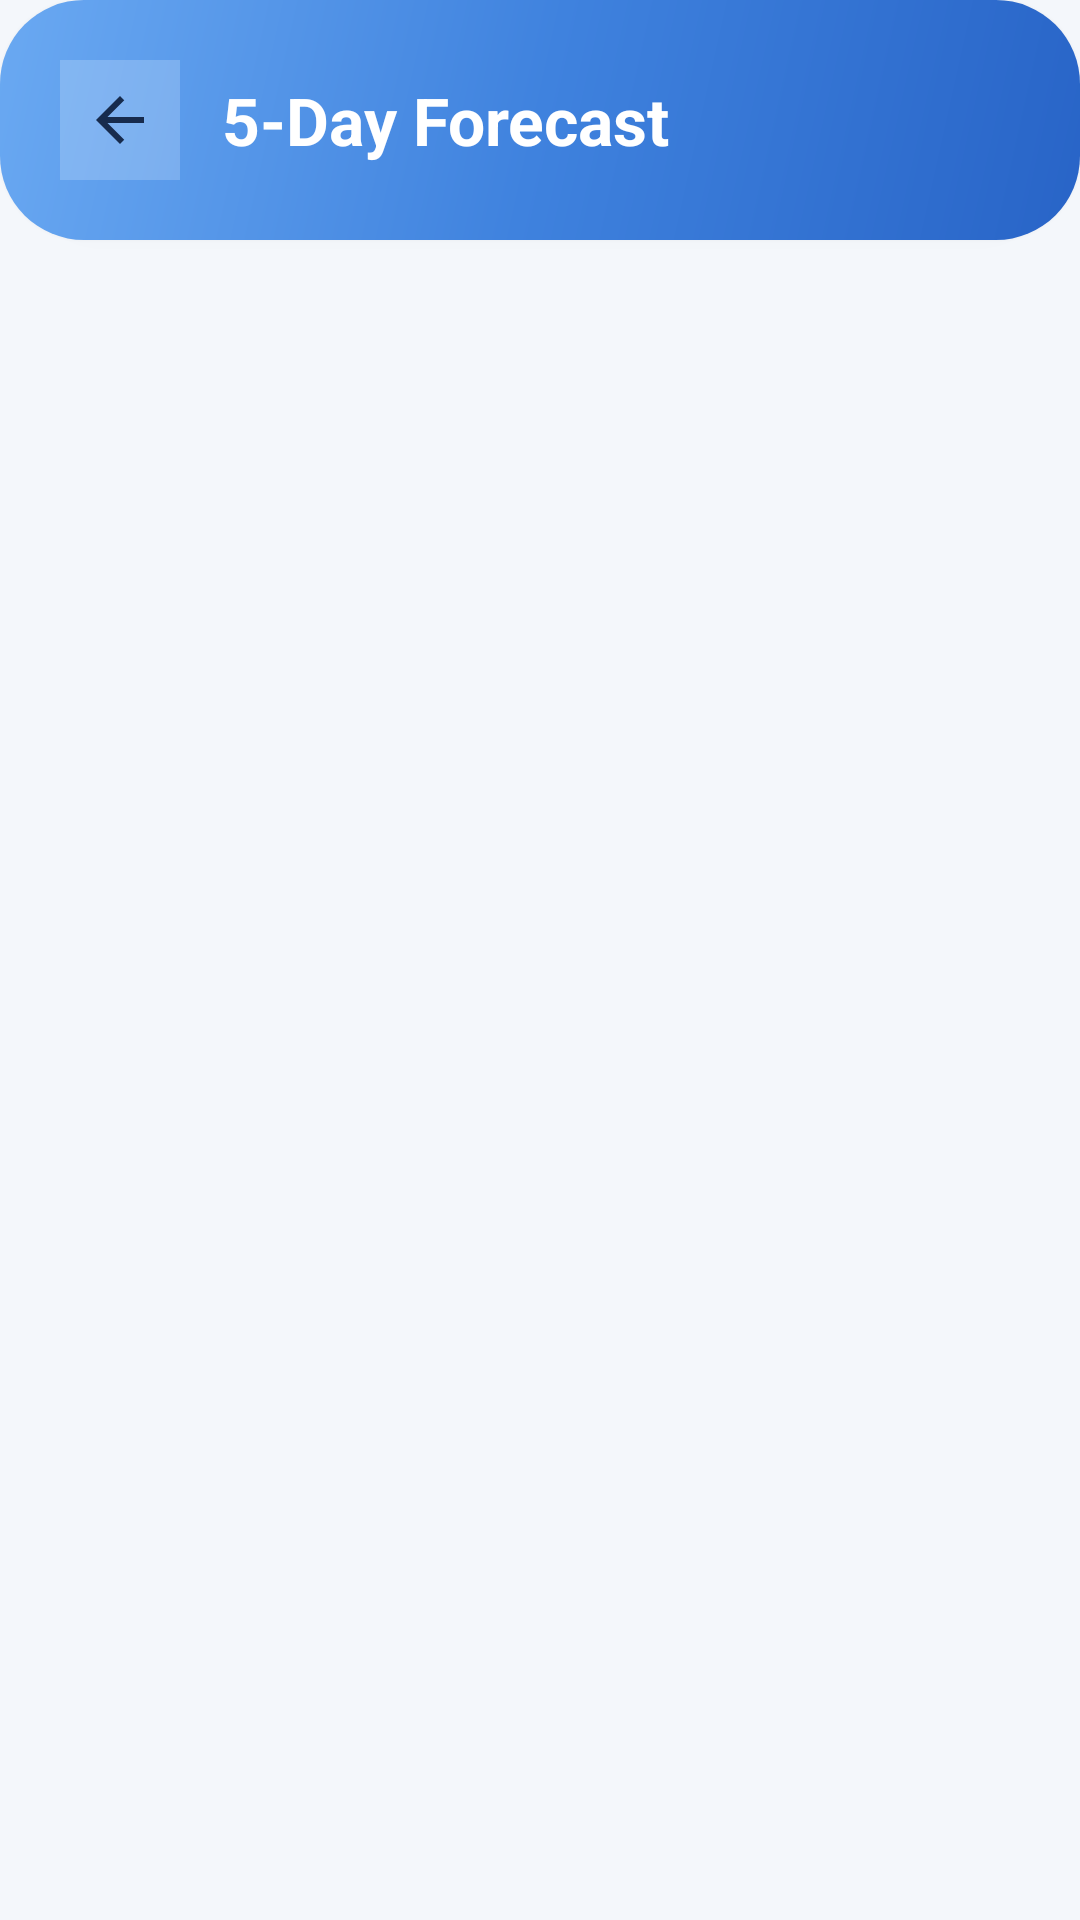

Where icons sit on this 1080×1920 app screen, as bbox(x1, y1, x2, y2):
back: bbox(60, 60, 180, 180)
